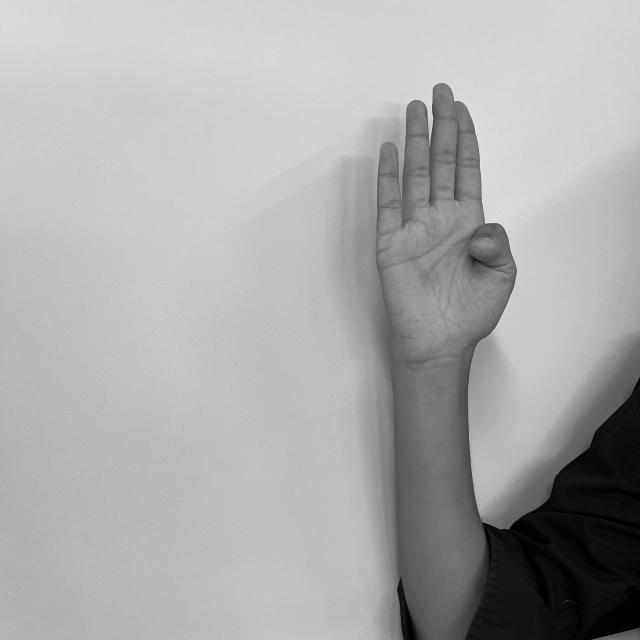Letra B: (369, 77, 520, 365)
